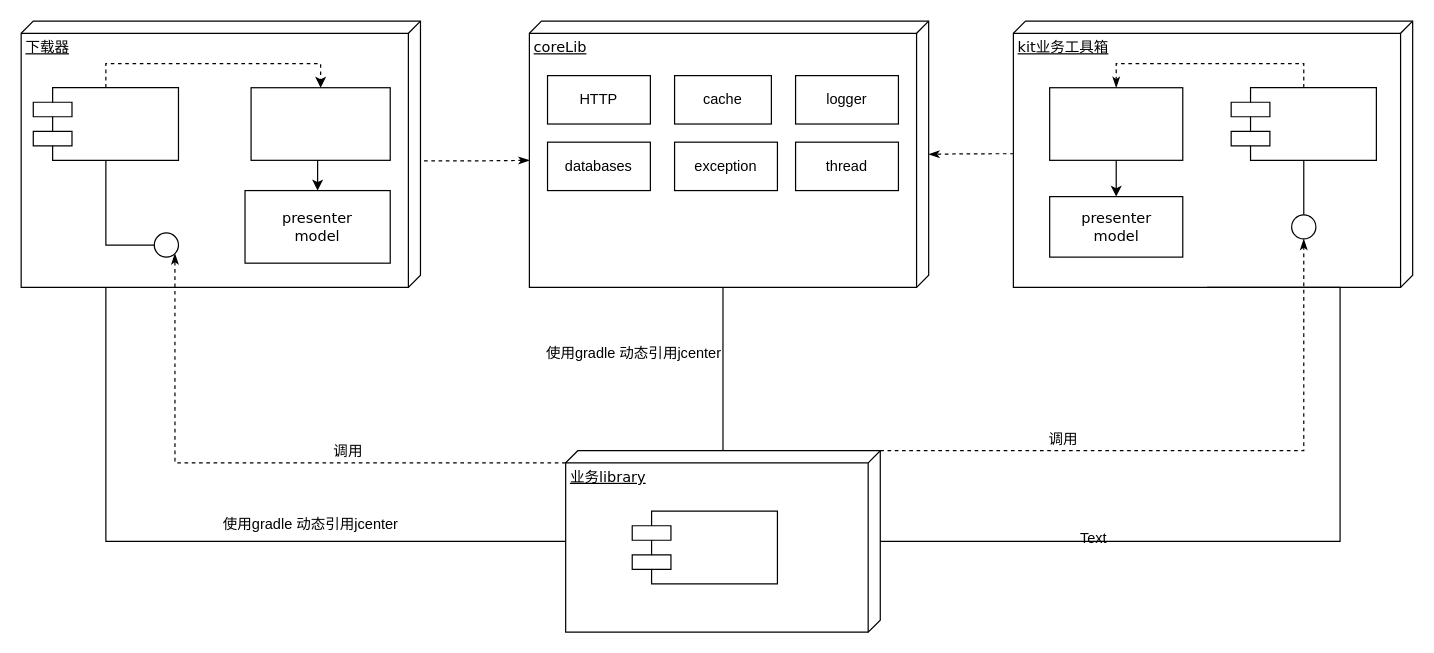
This 1434x653 diagram has some shape labels left out. The centre of each missing label's shape, as x and y in pixels:
controller: the point at 105,123
Module interface: the point at 1115,123
UI & Module: the point at 704,547
下载器 存储器 M3U8解析器 module interface: the point at 320,123
工厂类: the point at 1303,123
